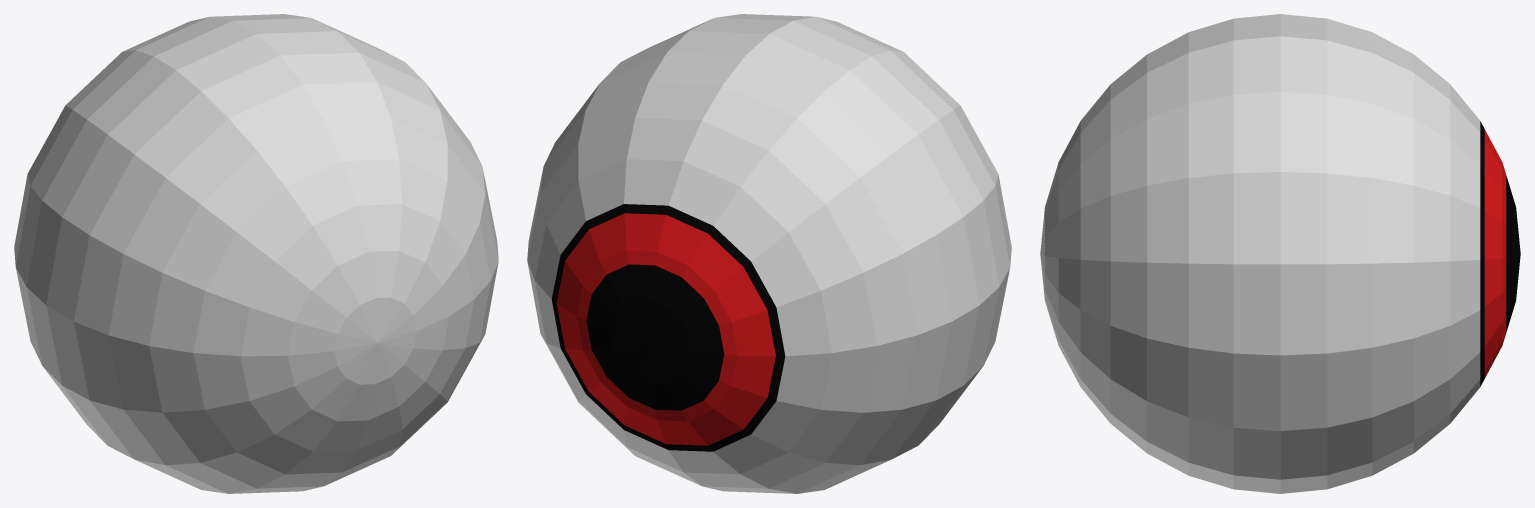
Rendered from eyeball.glb.
The picture shows the model from 3 angles, left to right: view 1: azimuth 30°, elevation 25°; view 2: azimuth 150°, elevation 25°; view 3: azimuth 270°, elevation 25°; orthographic projection.
Parts seen in each view (by area): view 1: Sphere; view 2: Sphere; view 3: Sphere.
Boxes of the visible parts, x1,y1,x2,y2 form: Sphere: (14, 14, 498, 493); Sphere: (527, 14, 1011, 493); Sphere: (1040, 14, 1520, 493).
Size of the model in its own units: 2 by 2 by 2.
